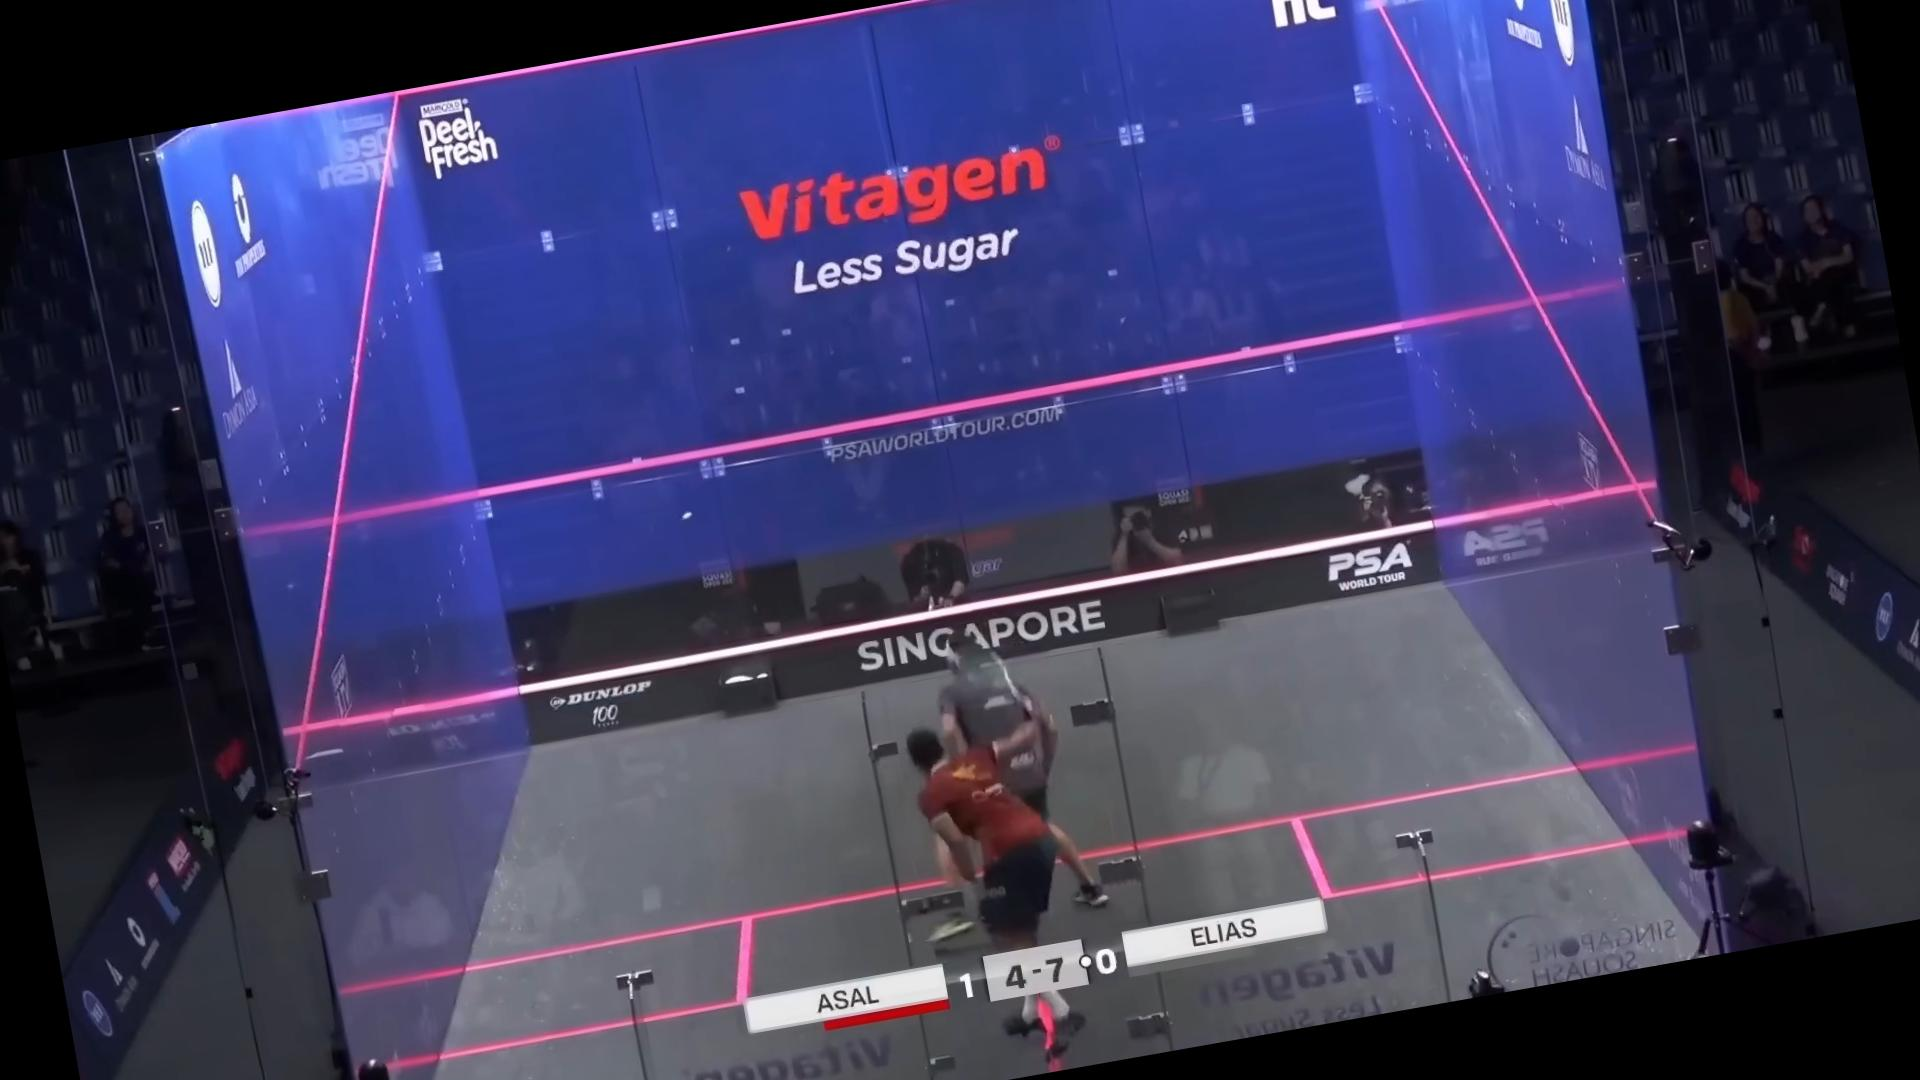Squash-Ball: (669, 492, 709, 539)
